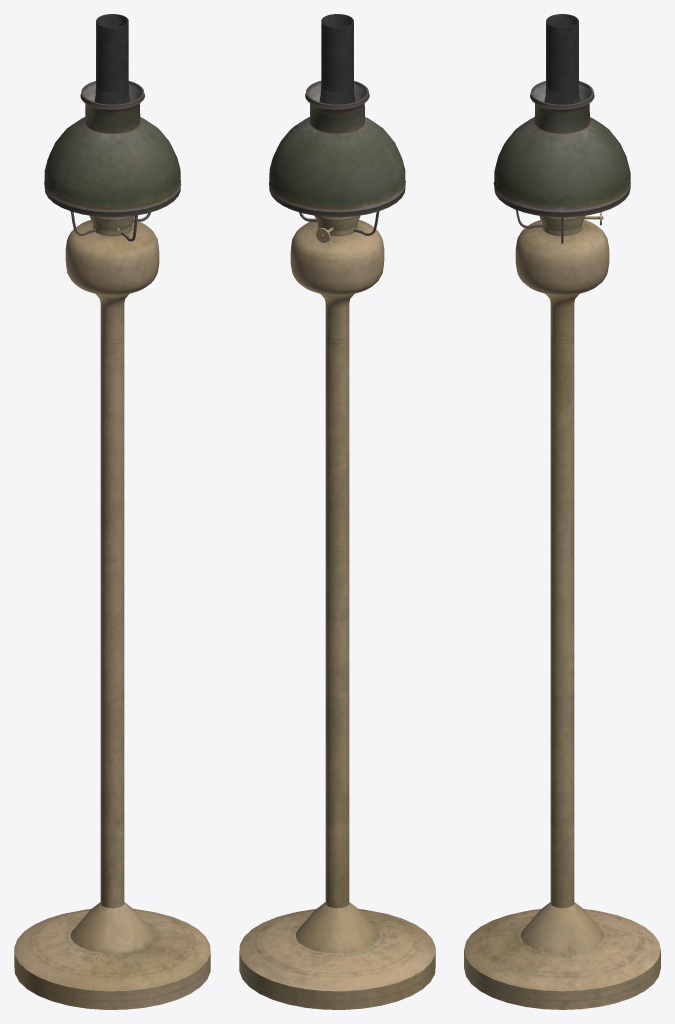
The model's file is lamp-oil-hall-b.glb.
The picture shows the model from 3 angles, left to right: view 1: azimuth 30°, elevation 25°; view 2: azimuth 150°, elevation 25°; view 3: azimuth 270°, elevation 25°; orthographic projection.
Visible parts, largest first — view 1: lamp-oil-hall-b; view 2: lamp-oil-hall-b; view 3: lamp-oil-hall-b.
Part boxes in pixels (x1,y1,x2,y2): lamp-oil-hall-b: (14,14,210,1009); lamp-oil-hall-b: (239,14,435,1009); lamp-oil-hall-b: (464,14,660,1009).
Size of the model in its own units: 0.2761 by 1.47 by 0.2761.
Materials: 1 (1 with a texture image).
